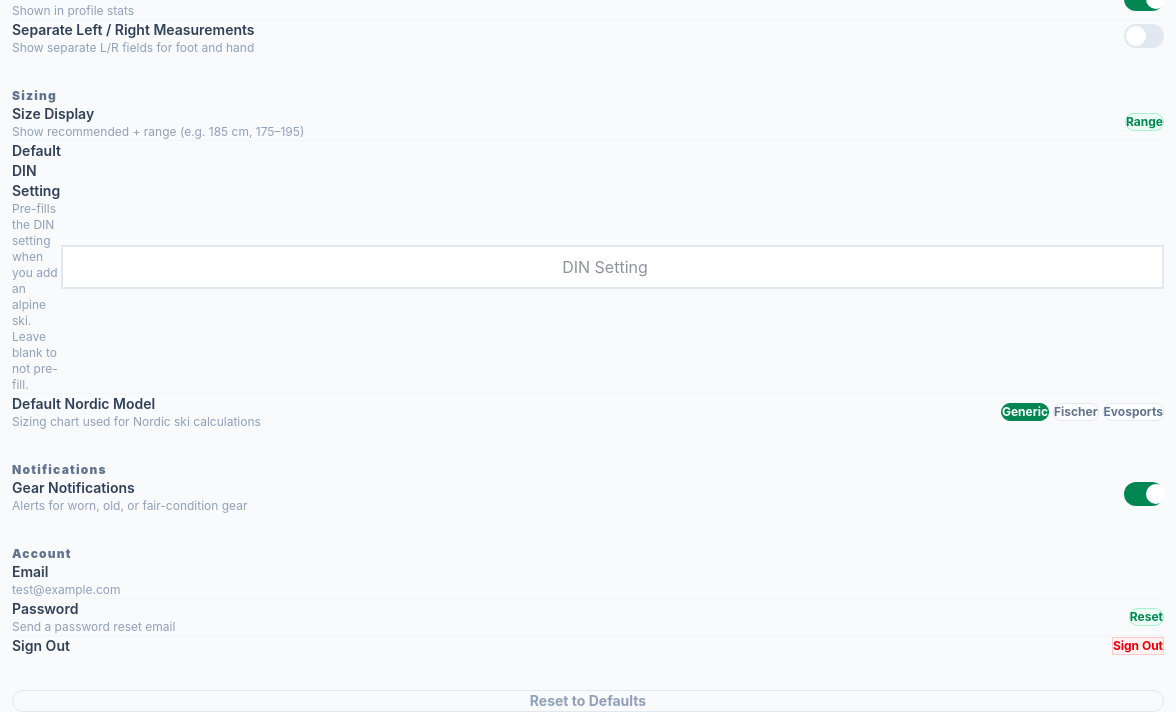
SettingsScreen › account section › sends password reset and shows confirmation
(page scrolled)
Click the button with aria-label "send password reset email" at [1146, 617], box [1129,608,1164,626]
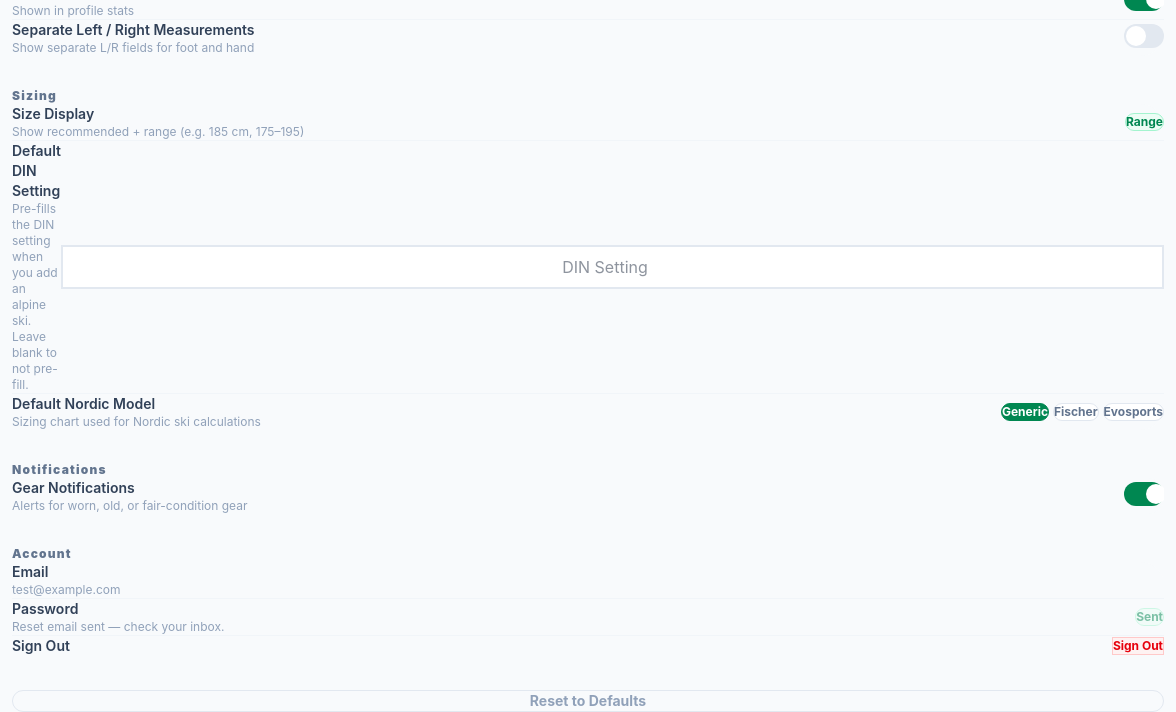
Check: the text "Reset email sent — check your inbox." is shown, box [12,619,224,635]
